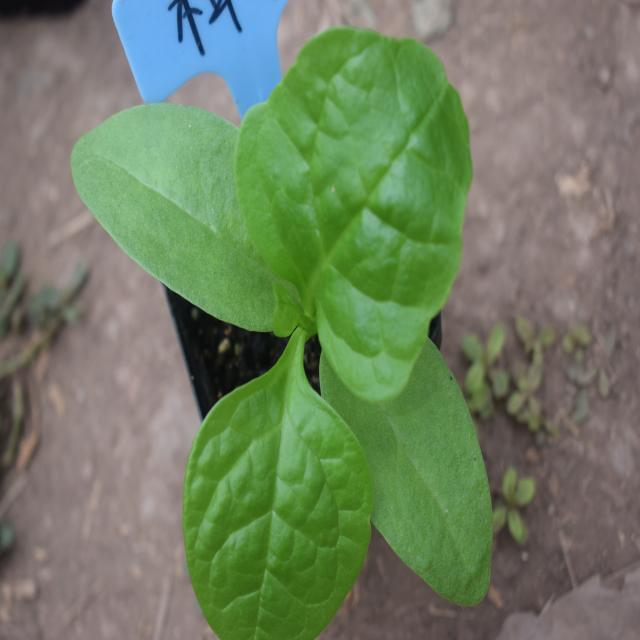Ceylon spinach: (98, 75, 525, 606)
